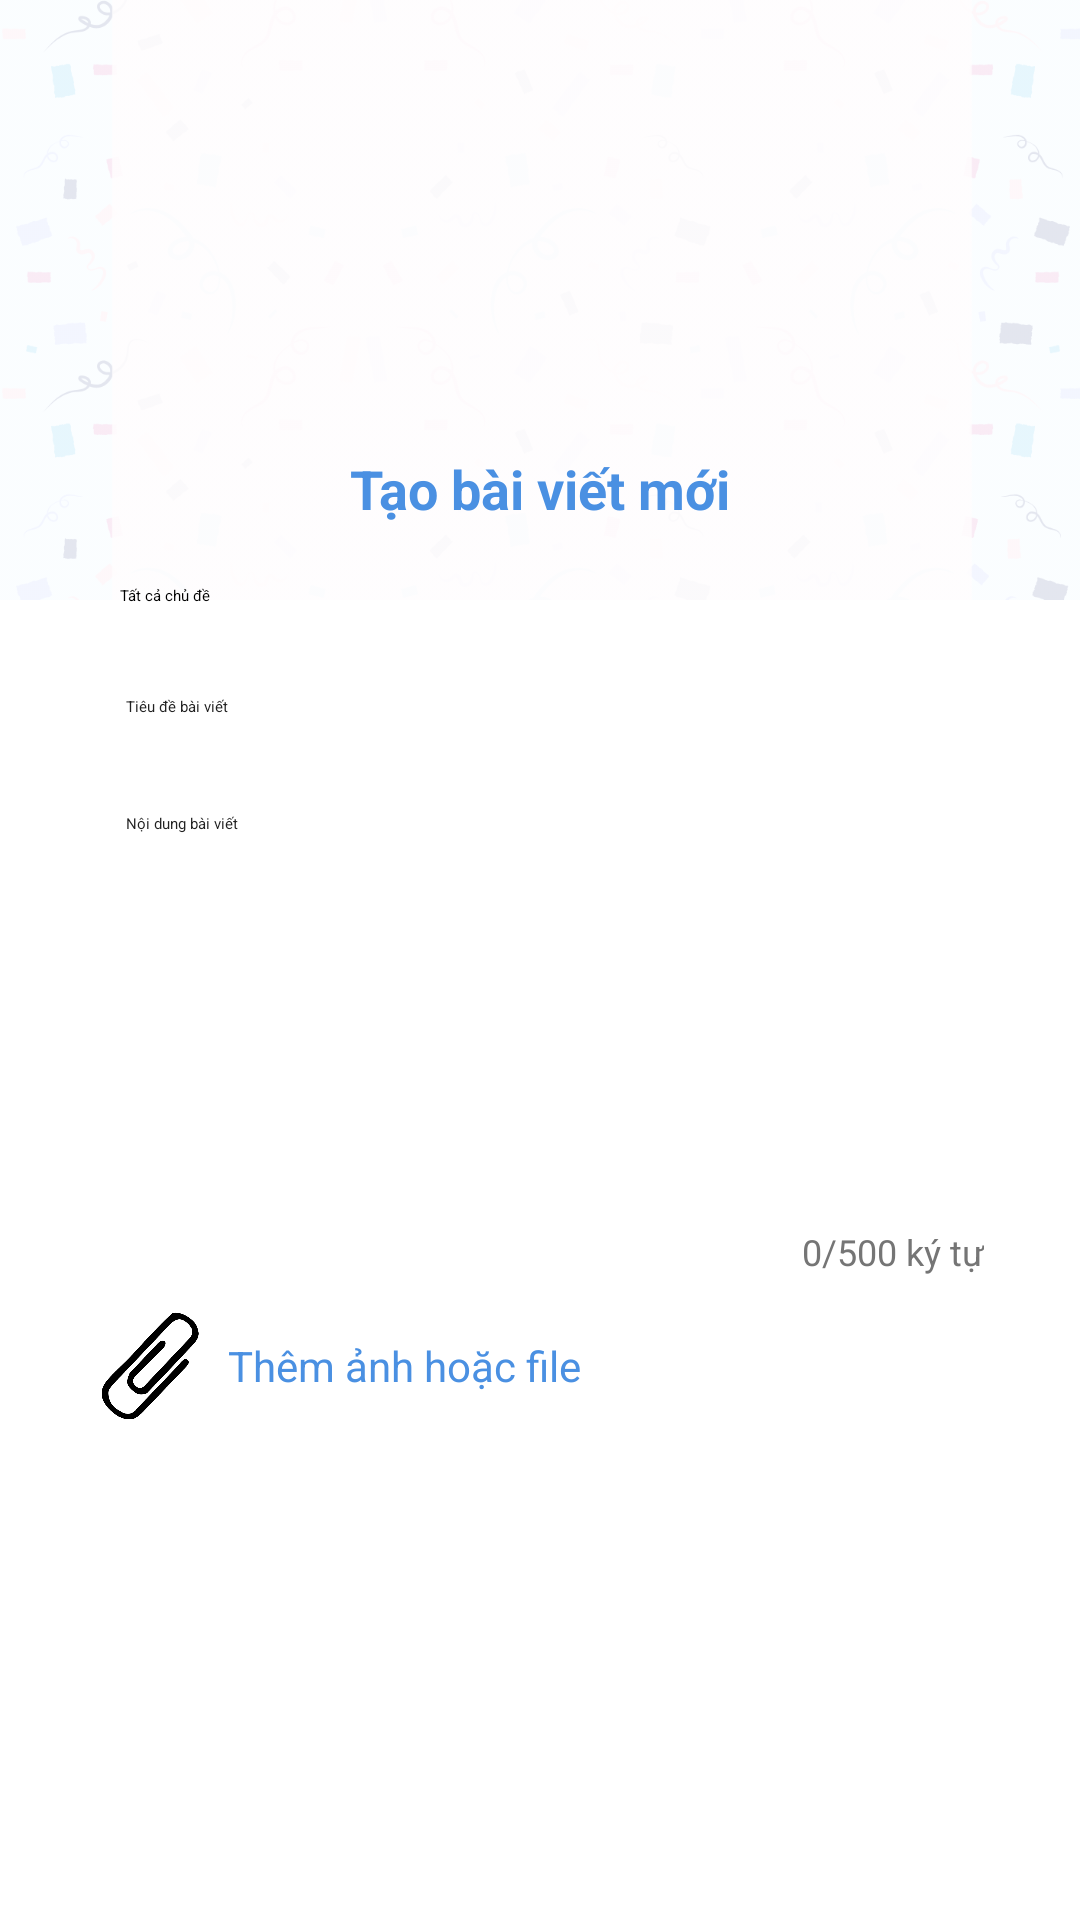

Icon bounding boxes for this 1080×1920 phone screenshot, format (x1, y1, x2, y2):
Đính kèm ảnh: (102, 1313, 199, 1419)
